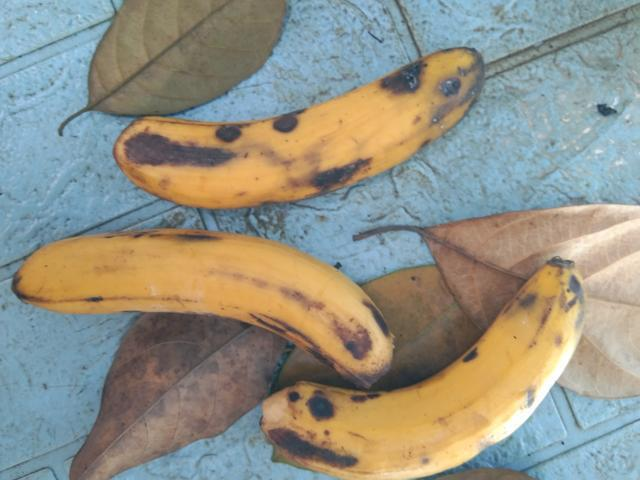overripe: (104, 29, 497, 214)
ripe: (264, 252, 610, 461), (11, 222, 407, 384)
